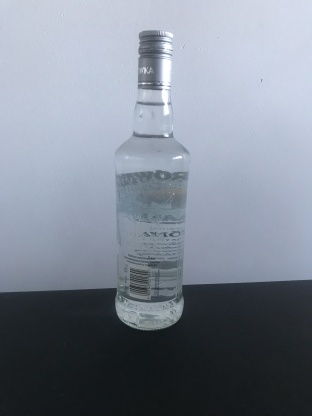nakretka: (136, 29, 174, 92)
